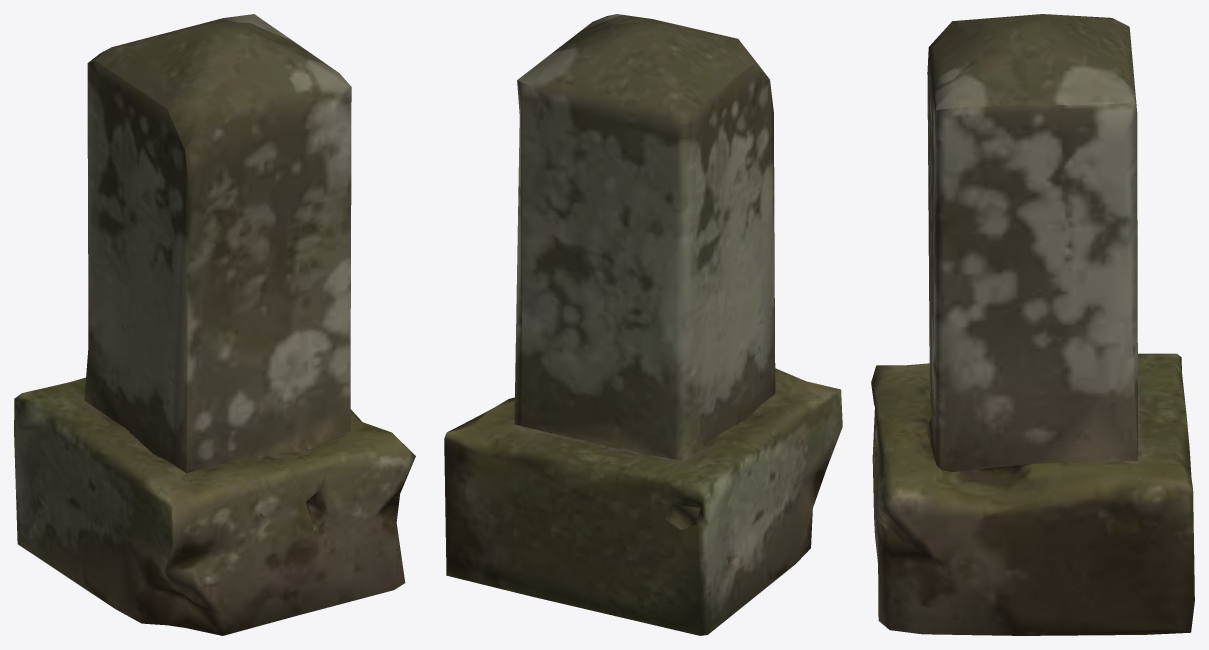
File: SM_pal_b00_Megascans_Japanese_Gravestone_ucnocfmfa_lod3_7583fa.glb
3 renders of one model, left to right at view 1: azimuth 30°, elevation 25°; view 2: azimuth 150°, elevation 25°; view 3: azimuth 270°, elevation 25°, orthographic. The views are drawn at different scales.
Size of the model in its own units: 0.3442 by 0.664 by 0.3512.
Materials: 1 (1 with a texture image).
